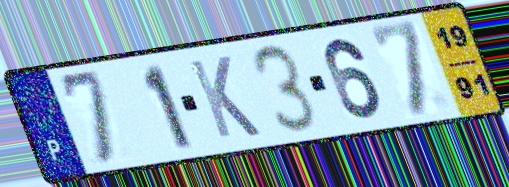1: (140, 61, 195, 152)
3: (252, 41, 320, 136)
6: (322, 35, 384, 122)
7: (54, 68, 120, 168), (366, 18, 430, 121)
K: (184, 53, 265, 141)
